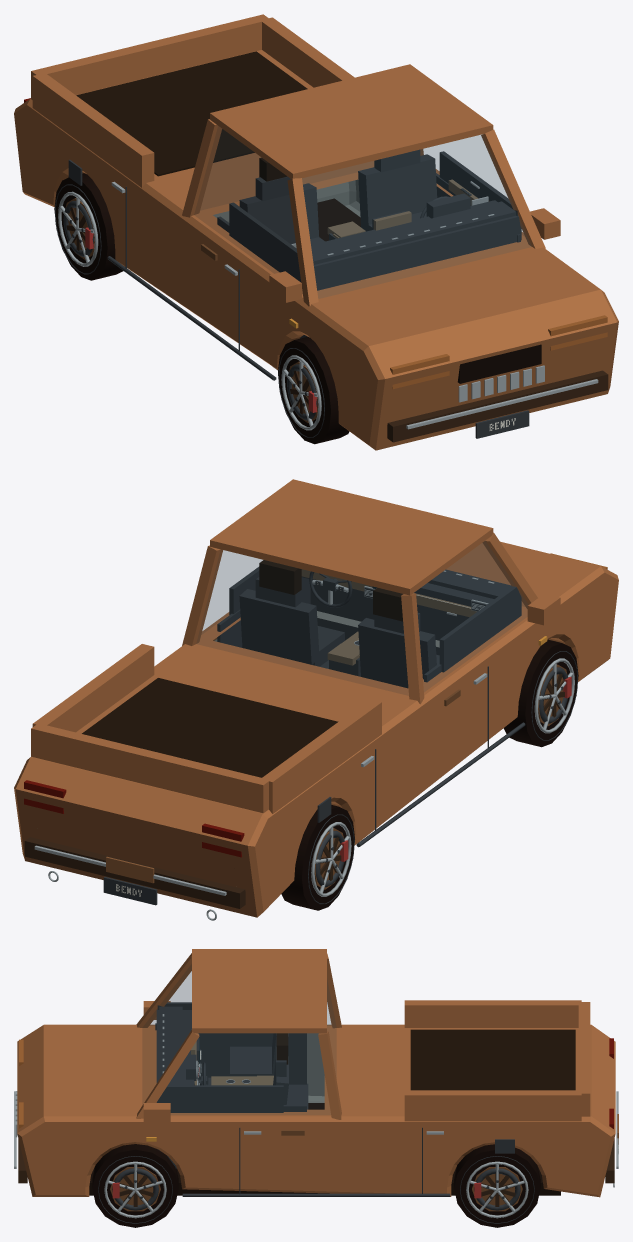
3 renders of one model, top to bottom at view 1: azimuth 30°, elevation 25°; view 2: azimuth 150°, elevation 25°; view 3: azimuth 270°, elevation 25°, orthographic. The views are drawn at different scales.
Visible parts, largest first — view 1: body, windows, cabin-detail-trim, close-detail-detail-trim, wheel-mesh_2, wheel-mesh, close-detail-detail-alloy, cabin-cabin-trim, wheel-front-right-fittings-detail-alloy, wheel-rear-right-fittings-detail-alloy, legacy-body-lining, wheel-rear-right-fittings-detail-trim (+1 smaller); view 2: body, windows, close-detail-detail-trim, cabin-detail-trim, wheel-mesh_2, wheel-mesh, cabin-cabin-trim, wheel-rear-right-fittings-detail-alloy, wheel-front-right-fittings-detail-alloy, close-detail-detail-alloy, wheel-rear-right-fittings-detail-trim, wheel-front-right-fittings-detail-trim; view 3: body, windows, cabin-detail-trim, wheel-mesh_3, wheel-mesh_1, close-detail-detail-trim, legacy-body-lining, wheel-front-left-fittings-detail-alloy, wheel-rear-left-fittings-detail-alloy, wheel-rear-left-fittings-detail-trim, wheel-front-left-fittings-detail-trim, cabin-cabin-trim (+1 smaller).
Boxes of the visible parts, bbox=[...] form: body: bbox=[14, 14, 618, 450]; windows: bbox=[195, 126, 531, 297]; cabin-detail-trim: bbox=[217, 151, 521, 338]; close-detail-detail-trim: bbox=[68, 149, 529, 438]; wheel-mesh_2: bbox=[278, 337, 349, 444]; wheel-mesh: bbox=[54, 173, 123, 280]; close-detail-detail-alloy: bbox=[111, 181, 598, 429]; cabin-cabin-trim: bbox=[327, 179, 478, 238]; wheel-front-right-fittings-detail-alloy: bbox=[281, 355, 321, 430]; wheel-rear-right-fittings-detail-alloy: bbox=[58, 191, 98, 266]; legacy-body-lining: bbox=[213, 179, 360, 222]; wheel-rear-right-fittings-detail-trim: bbox=[55, 184, 101, 274]; body: bbox=[14, 479, 618, 917]; windows: bbox=[197, 542, 527, 694]; close-detail-detail-trim: bbox=[103, 577, 525, 905]; cabin-detail-trim: bbox=[217, 566, 521, 682]; wheel-mesh_2: bbox=[503, 639, 578, 747]; wheel-mesh: bbox=[281, 805, 354, 910]; cabin-cabin-trim: bbox=[301, 569, 476, 665]; wheel-rear-right-fittings-detail-alloy: bbox=[311, 822, 351, 896]; wheel-front-right-fittings-detail-alloy: bbox=[534, 658, 574, 733]; close-detail-detail-alloy: bbox=[34, 673, 487, 920]; wheel-rear-right-fittings-detail-trim: bbox=[308, 814, 354, 904]; wheel-front-right-fittings-detail-trim: bbox=[531, 651, 577, 740]; body: bbox=[17, 949, 618, 1197]; windows: bbox=[143, 965, 335, 1114]; cabin-detail-trim: bbox=[155, 1002, 308, 1168]; wheel-mesh_3: bbox=[92, 1144, 178, 1227]; wheel-mesh_1: bbox=[454, 1144, 540, 1227]; close-detail-detail-trim: bbox=[182, 1033, 514, 1196]; legacy-body-lining: bbox=[307, 1033, 324, 1102]; wheel-front-left-fittings-detail-alloy: bbox=[104, 1161, 166, 1218]; wheel-rear-left-fittings-detail-alloy: bbox=[466, 1161, 528, 1218]; wheel-rear-left-fittings-detail-trim: bbox=[460, 1156, 534, 1223]; wheel-front-left-fittings-detail-trim: bbox=[98, 1156, 172, 1223]; cabin-cabin-trim: bbox=[191, 1041, 273, 1085].
Size of the model in its own units: 2.2 by 1.8 by 5.18.
